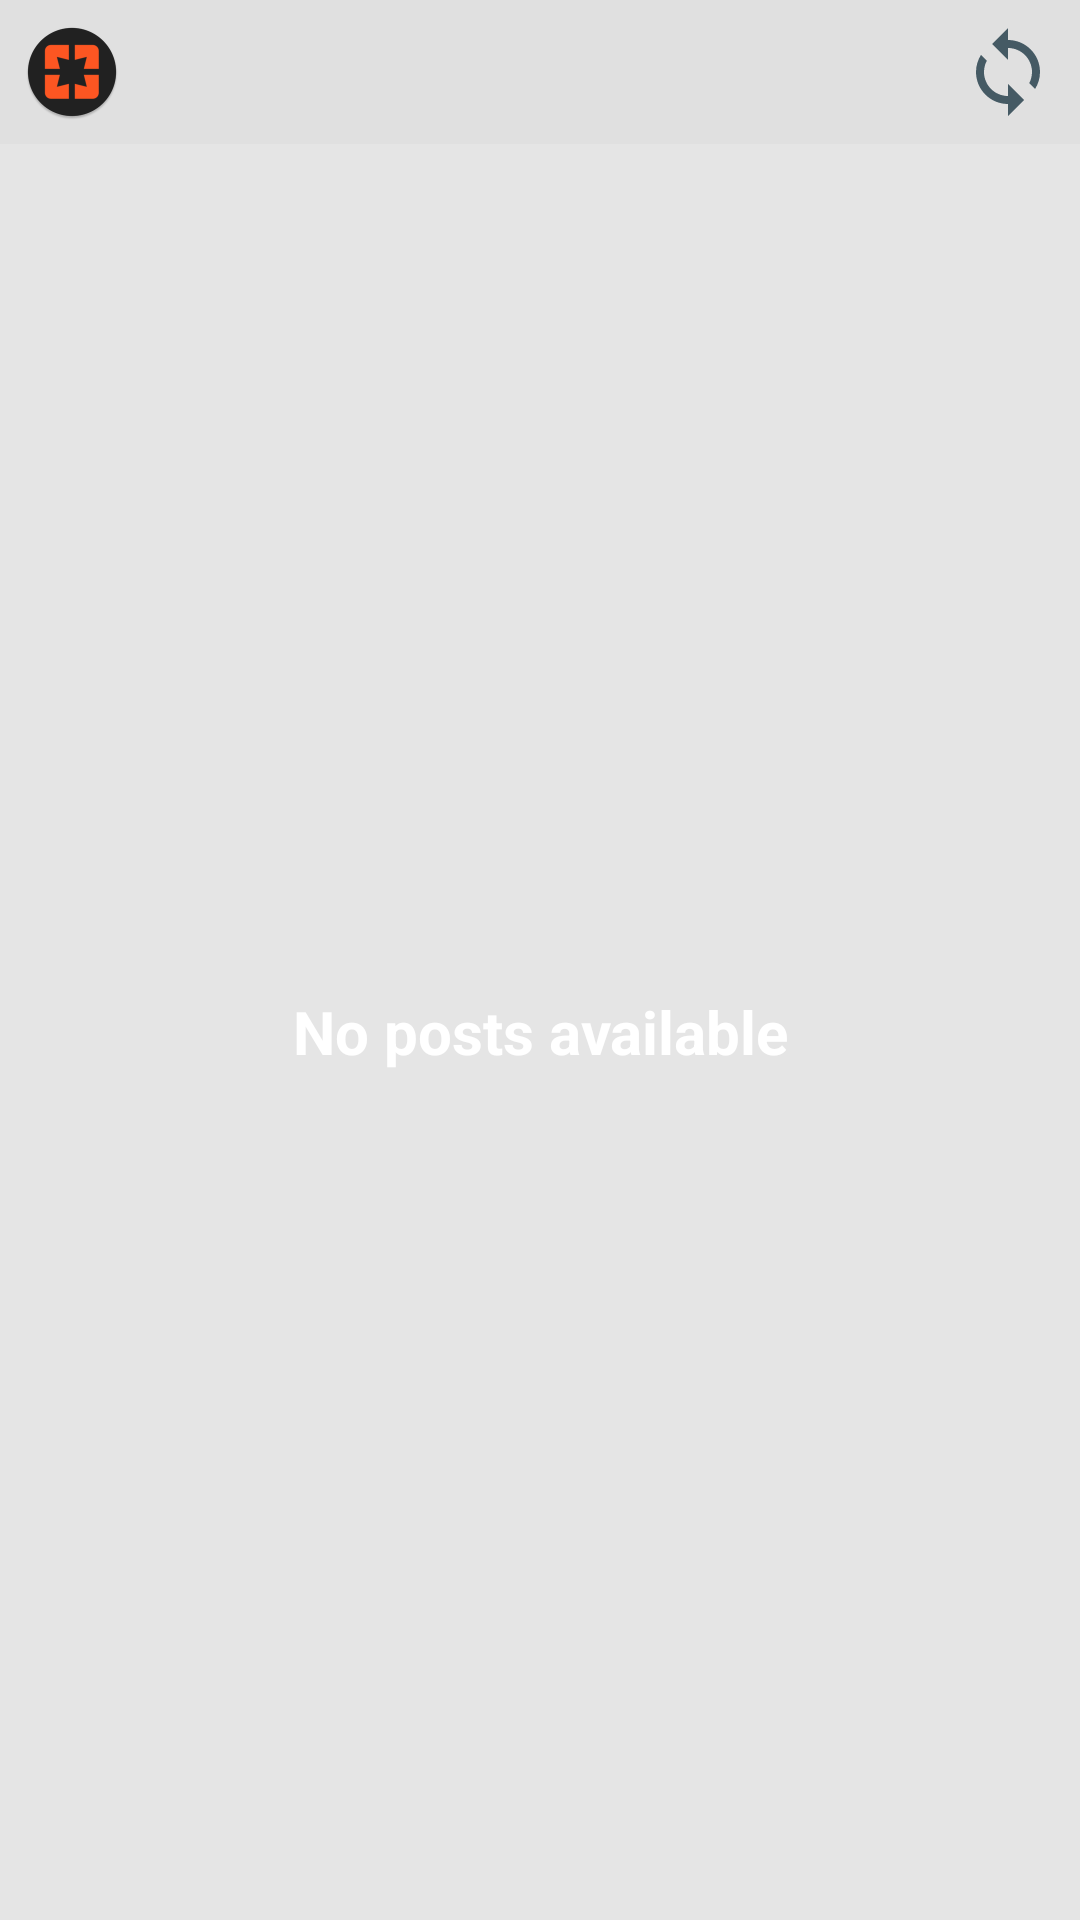

Screen size 1080*1920. Icon name, then its box in pixels as (x1, y1, x2, y2):
Sync Widget data: (976, 28, 1040, 116)
